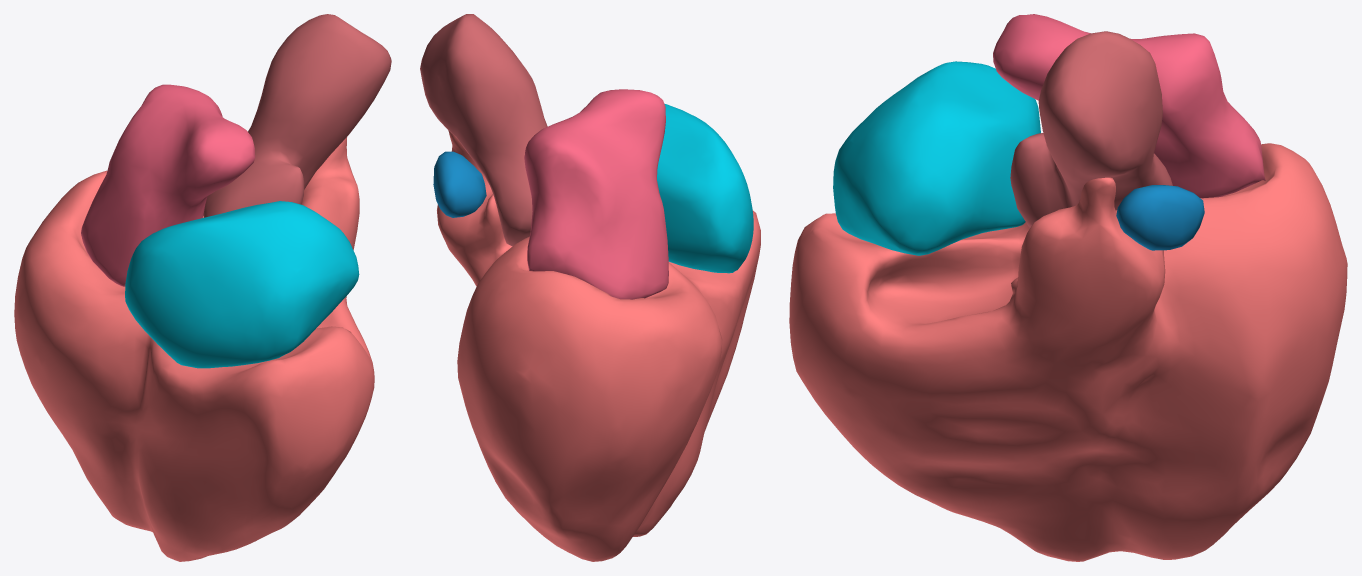
File: frame_21.glb
The picture shows the model from 3 angles, left to right: view 1: azimuth 30°, elevation 25°; view 2: azimuth 150°, elevation 25°; view 3: azimuth 270°, elevation 25°; orthographic projection. The views are drawn at different scales.
Visible parts, largest first — view 1: Renderer Node; view 2: Renderer Node; view 3: Renderer Node.
Part boxes in pixels (box(x1,y1,x2,y2)): Renderer Node: box(14, 14, 391, 561); Renderer Node: box(420, 14, 760, 561); Renderer Node: box(789, 14, 1347, 561).
Size of the model in its own units: 106 by 159 by 129.
